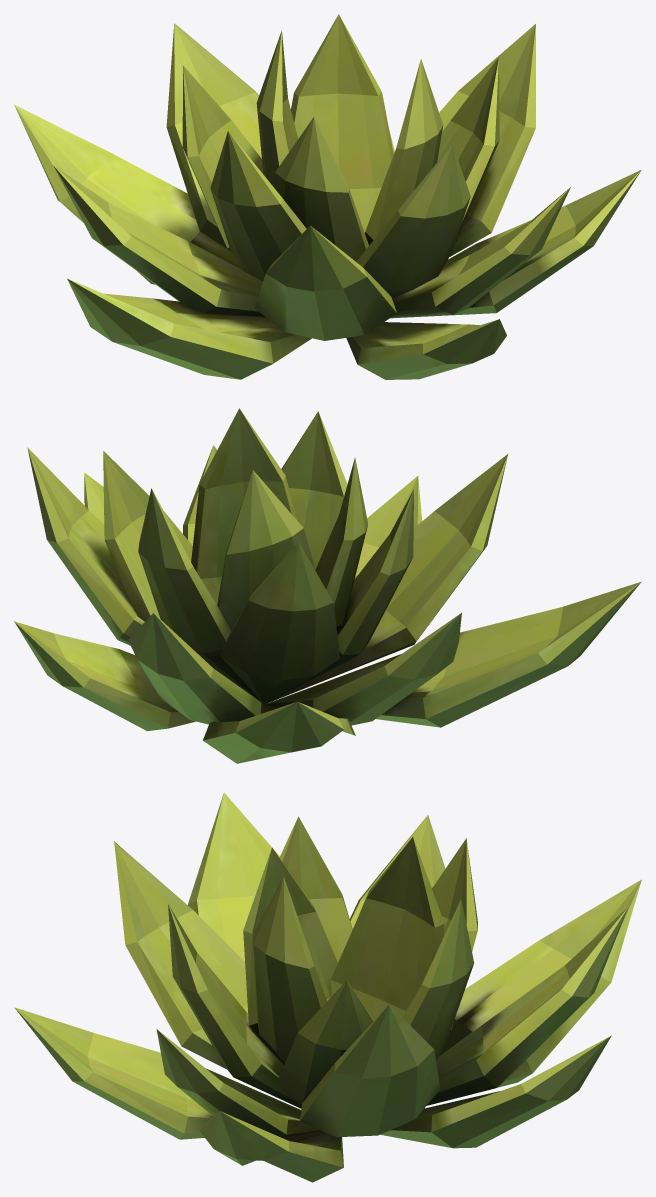
The model's file is aloe.glb.
3 renders of one model, top to bottom at view 1: azimuth 30°, elevation 25°; view 2: azimuth 150°, elevation 25°; view 3: azimuth 270°, elevation 25°, orthographic. The views are drawn at different scales.
Visible parts, largest first — view 1: aloe_plant; view 2: aloe_plant; view 3: aloe_plant.
Boxes of the visible parts, left/top/right/bottom form: aloe_plant: left=14, top=14, right=641, bottom=379; aloe_plant: left=14, top=408, right=641, bottom=763; aloe_plant: left=14, top=792, right=641, bottom=1182.
Size of the model in its own units: 2 by 0.907 by 1.84.
1 material, 1 textured.
